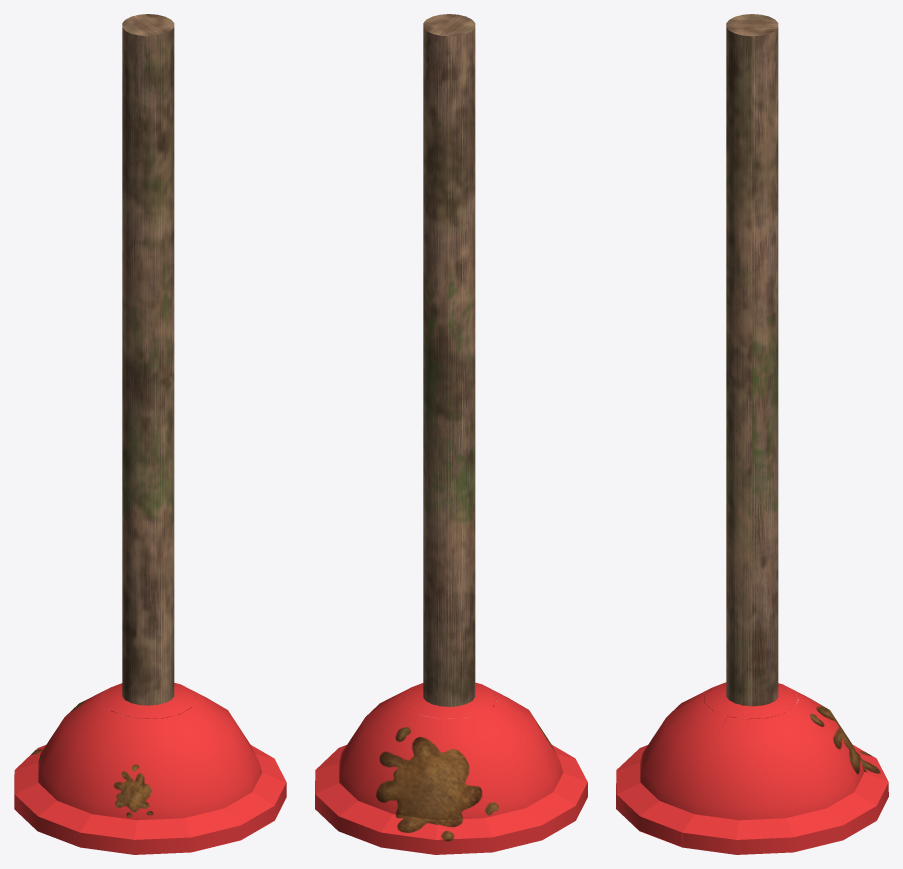
File: Desatascador.FBX
3 renders of one model, left to right at view 1: azimuth 30°, elevation 25°; view 2: azimuth 150°, elevation 25°; view 3: azimuth 270°, elevation 25°, orthographic.
Visible parts, largest first — view 1: Palo, Desatascador; view 2: Palo, Desatascador; view 3: Palo, Desatascador.
Boxes of the visible parts, bbox=[...] form: Palo: bbox=[122, 14, 174, 705]; Desatascador: bbox=[14, 683, 286, 854]; Palo: bbox=[423, 14, 475, 706]; Desatascador: bbox=[315, 682, 587, 854]; Palo: bbox=[726, 14, 778, 706]; Desatascador: bbox=[616, 682, 888, 854].
Bounding box in the file's own units: 0.8388 × 2.6 × 0.8342.
Materials: 2 (2 with a texture image).
